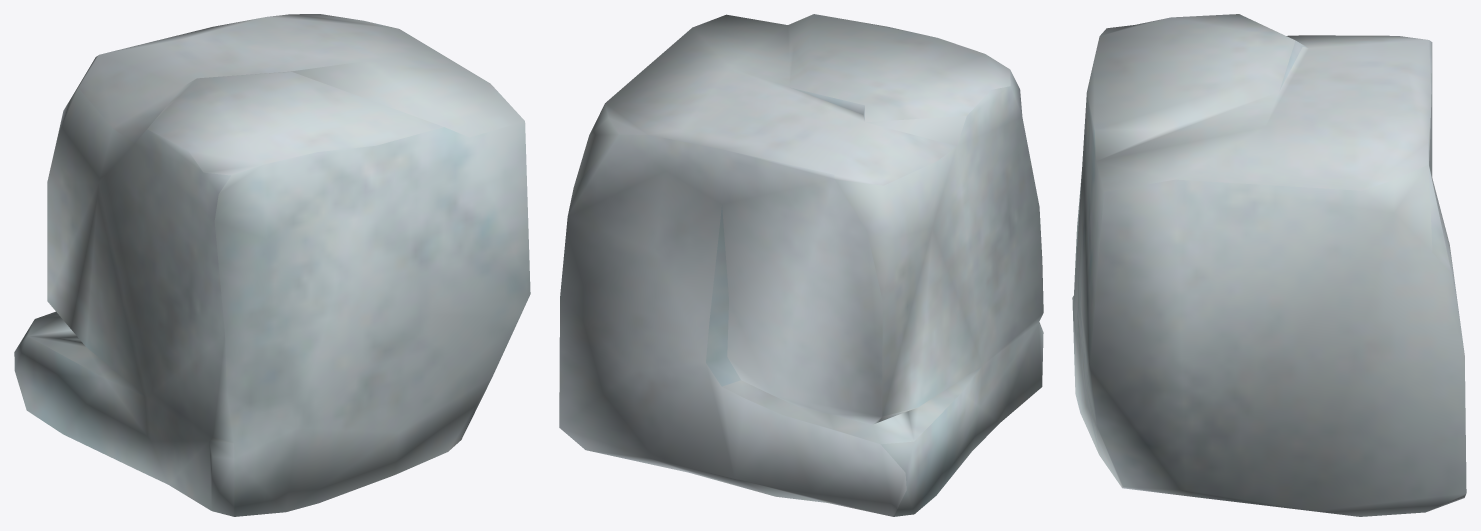
File: P_BoulderCubic01.obj
The picture shows the model from 3 angles, left to right: view 1: azimuth 30°, elevation 25°; view 2: azimuth 150°, elevation 25°; view 3: azimuth 270°, elevation 25°; orthographic projection. The views are drawn at different scales.
Size of the model in its own units: 5.86 by 5.69 by 5.57.
